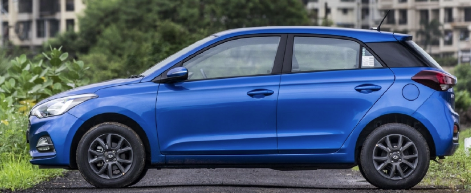car: (24, 21, 460, 190)
